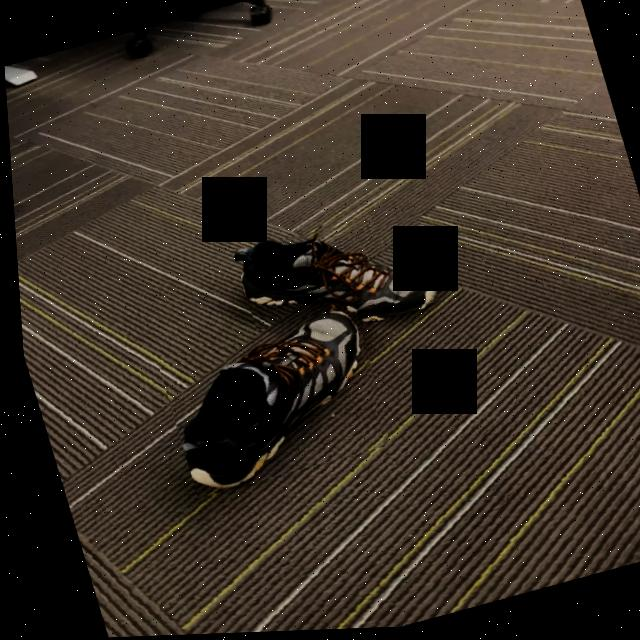shoe: (175, 309, 356, 492), (231, 241, 432, 327)
